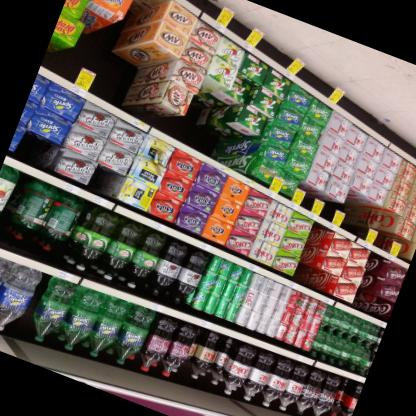empty_space: (129, 0, 162, 15)
